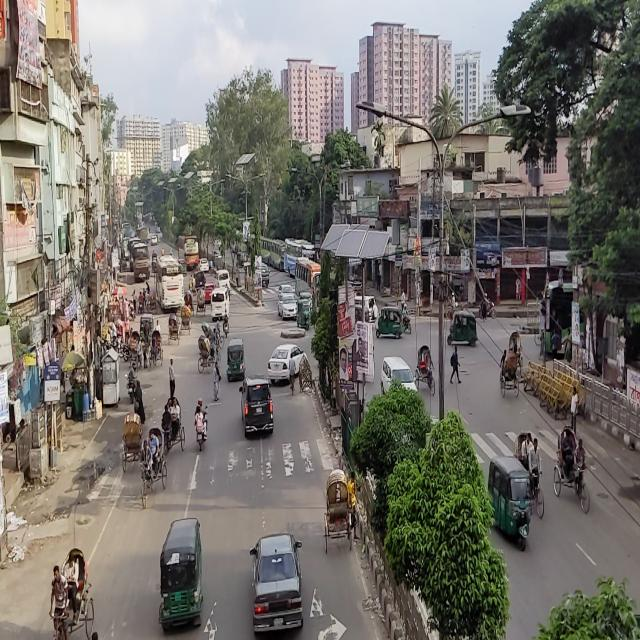black: (242, 379, 274, 439)
silver: (252, 532, 304, 635)
white: (381, 356, 418, 406), (268, 343, 305, 382), (212, 286, 230, 316)
